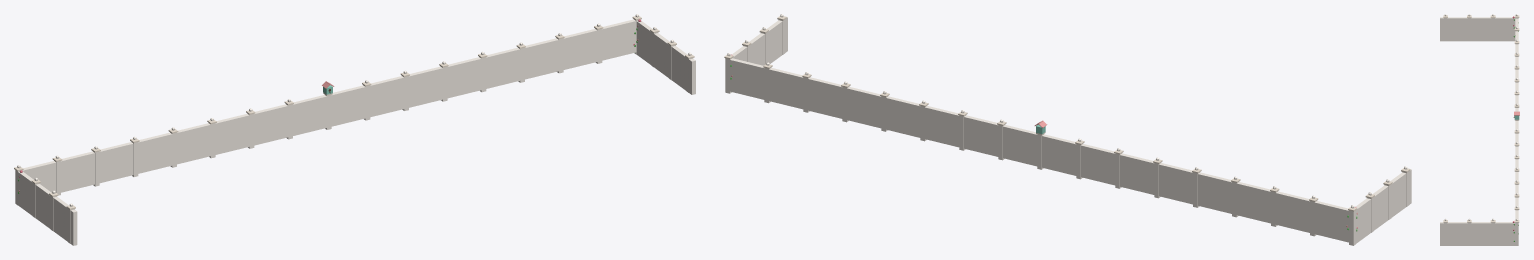
Rendered from CatCafe_Plot_YardFence_60x46.glb.
The picture shows the model from 3 angles, left to right: view 1: azimuth 30°, elevation 25°; view 2: azimuth 150°, elevation 25°; view 3: azimuth 270°, elevation 25°; orthographic projection. The views are drawn at different scales.
Parts seen in each view (by area): view 1: CatCafe_Plot_YardFence_60x46_Barrier, CatCafe_Plot_YardFence_60x46; view 2: CatCafe_Plot_YardFence_60x46_Barrier, CatCafe_Plot_YardFence_60x46; view 3: CatCafe_Plot_YardFence_60x46_Barrier, CatCafe_Plot_YardFence_60x46.
Part boxes in pixels (x1,y1,x2,y2): CatCafe_Plot_YardFence_60x46_Barrier: [18, 19, 695, 245]; CatCafe_Plot_YardFence_60x46: [14, 14, 694, 243]; CatCafe_Plot_YardFence_60x46_Barrier: [730, 17, 1411, 243]; CatCafe_Plot_YardFence_60x46: [724, 14, 1410, 245]; CatCafe_Plot_YardFence_60x46_Barrier: [1440, 17, 1518, 245]; CatCafe_Plot_YardFence_60x46: [1443, 14, 1519, 245].
Bounding box in the file's own units: 62.4 × 4.38 × 10.17.
1 material, 1 textured.
